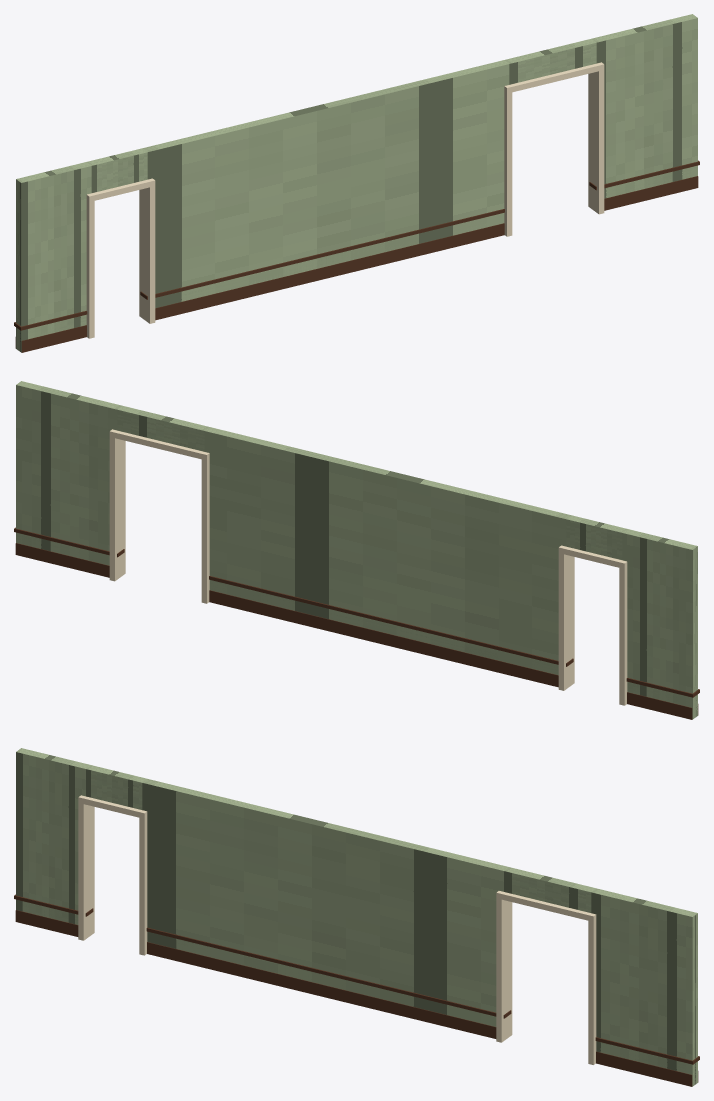
File: hall_front.glb
3 renders of one model, top to bottom at view 1: azimuth 30°, elevation 25°; view 2: azimuth 150°, elevation 25°; view 3: azimuth 330°, elevation 25°, orthographic.
Parts seen in each view (by area): view 1: Box3, Box5, Box1, Box4, Box10, Box8, Box13, Box7, Box18, Box17, Box9, Box12 (+5 smaller); view 2: Box3, Box5, Box1, Box4, Box10, Box8, Box13, Box17, Box7, Box18, Box9, Box12 (+4 smaller); view 3: Box3, Box5, Box1, Box4, Box9, Box8, Box12, Box7, Box18, Box10, Box13, Box6 (+3 smaller).
Boxes of the visible parts, left/top/right/bottom form: Box3: left=142, top=60, right=509, bottom=308; Box5: left=591, top=14, right=697, bottom=198; Box1: left=16, top=162, right=91, bottom=352; Box4: left=155, top=223, right=504, bottom=320; Box10: left=588, top=62, right=604, bottom=214; Box8: left=504, top=39, right=596, bottom=84; Box13: left=139, top=178, right=155, bottom=323; Box7: left=86, top=148, right=147, bottom=192; Box18: left=140, top=209, right=504, bottom=299; Box17: left=156, top=214, right=503, bottom=307; Box9: left=504, top=85, right=512, bottom=236; Box12: left=86, top=193, right=94, bottom=338; Box3: left=204, top=427, right=571, bottom=674; Box5: left=16, top=381, right=122, bottom=565; Box1: left=622, top=529, right=697, bottom=719; Box4: left=209, top=590, right=558, bottom=687; Box10: left=109, top=429, right=125, bottom=581; Box8: left=117, top=406, right=209, bottom=451; Box13: left=558, top=545, right=574, bottom=690; Box17: left=210, top=582, right=558, bottom=674; Box7: left=566, top=515, right=627, bottom=559; Box18: left=209, top=576, right=573, bottom=666; Box9: left=201, top=452, right=209, bottom=603; Box12: left=619, top=560, right=627, bottom=705; Box3: left=142, top=779, right=508, bottom=1026; Box5: left=591, top=888, right=697, bottom=1086; Box1: left=16, top=748, right=90, bottom=924; Box4: left=147, top=942, right=496, bottom=1038; Box9: left=496, top=891, right=512, bottom=1042; Box8: left=504, top=867, right=596, bottom=912; Box12: left=78, top=795, right=94, bottom=940; Box7: left=86, top=765, right=147, bottom=809; Box18: left=146, top=927, right=511, bottom=1018; Box10: left=588, top=913, right=596, bottom=1064; Box13: left=139, top=810, right=147, bottom=955; Box6: left=596, top=1051, right=698, bottom=1086.
Bounding box in the file's own units: 10.89 × 2.6 × 0.3.
3 materials, 1 textured.
